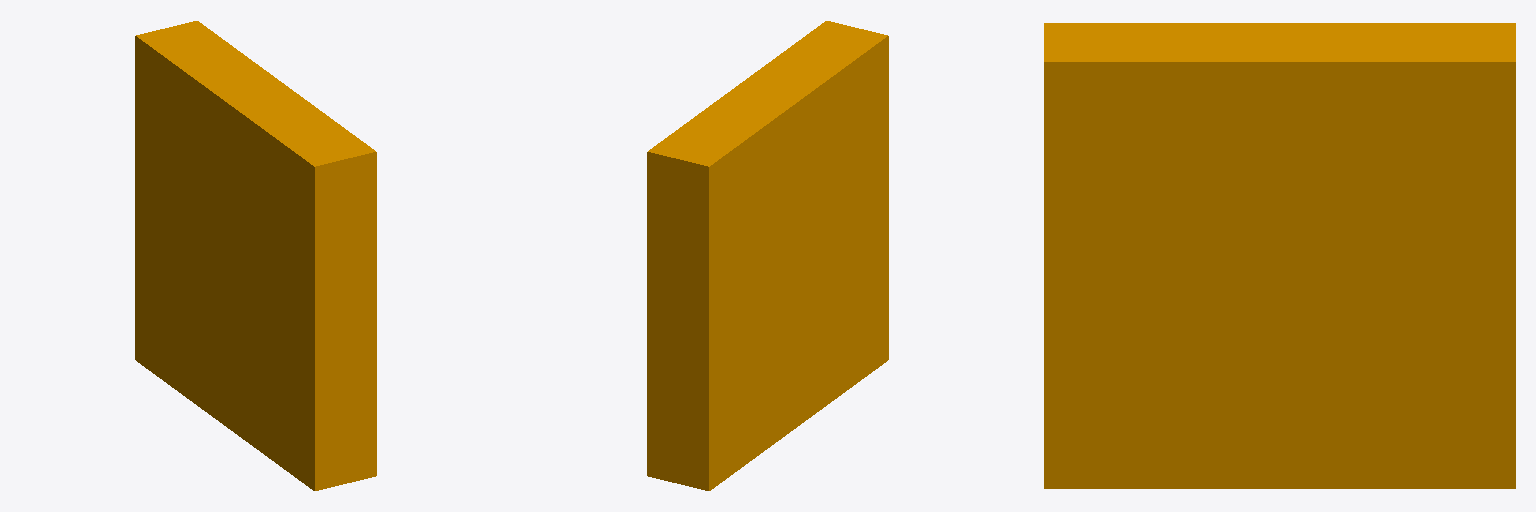
The robot description file, URDF, robot "artag1":
<robot name="artag1">
  <link name="artag1_link">
    <inertial>
      <origin xyz="0 0 0" rpy= "0 0 0" />
      <mass value="1.0" />
      <inertia  ixx="0.074166666667" ixy="0.0"  ixz="0.0"  iyy="0.0585416666666667"  iyz="0.0"  izz="0.026041666666667" />
    </inertial>
    <collision>
      <origin xyz="0 0 0"/>
      <geometry>
        <box size="0.2 1 1" />
      </geometry>
    </collision>

  
    

    <visual>
            <origin rpy="0.0 0 0" xyz="0 0 0"/>
            <geometry>
                <mesh filename="package://artags_opencv_course/meshes/wall1.dae"/>
            </geometry>
            
    </visual>
  </link>
  <gazebo reference="artag1_link">
    <kp>100000.0</kp>
    <kd>100000.0</kd>
    <mu1>0.1</mu1>
    <mu2>0.1</mu2>
    <fdirl>1 0 0</fdirl>
  </gazebo>
</robot>
 

--- Facts derived from the render (not from the file) ---
The picture shows the robot from 3 angles, left to right: view 1: azimuth 30°, elevation 25°; view 2: azimuth 150°, elevation 25°; view 3: azimuth 270°, elevation 25°; orthographic projection.
Model artag1 with 1 links and 0 joints (none), rooted at artag1_link, posed all joints at 0.
Visible links, largest first — view 1: artag1_link; view 2: artag1_link; view 3: artag1_link.
Link boxes in pixels (x1,y1,x2,y2): artag1_link: (135,21,376,490); artag1_link: (647,21,888,490); artag1_link: (1044,23,1515,488).
Bounding box of the posed robot: 0.2 × 1 × 1 m (x, y, z).
Meshes: 1 distinct files referenced, 1 mesh visuals loaded (1 Collada DAE).